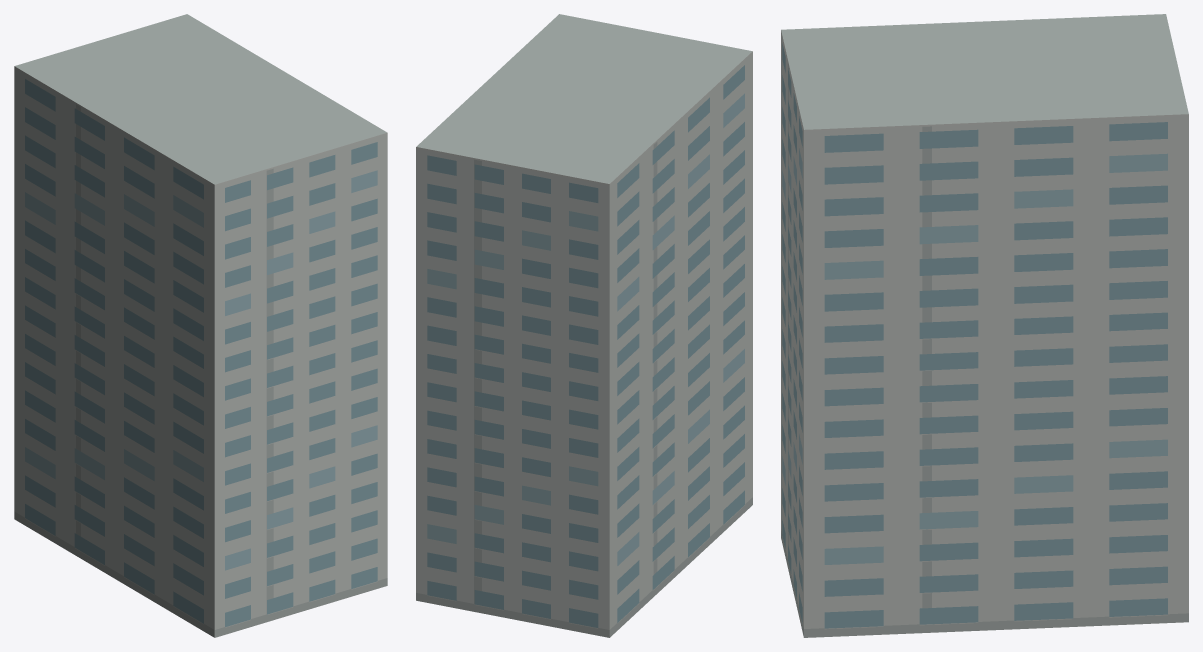
Rendered from residential-ce2b8a57-eed8-4463-aa10-202d6f5c9cc4.glb.
3 views of the same model, side by side, from view 1: azimuth 30°, elevation 25°; view 2: azimuth 150°, elevation 25°; view 3: azimuth 270°, elevation 25° (orthographic). The views are drawn at different scales.
Parts seen in each view (by area): view 1: residential-ce2b8a57-eed8-4463-aa10-202d6f5c9cc4.tmp; view 2: residential-ce2b8a57-eed8-4463-aa10-202d6f5c9cc4.tmp; view 3: residential-ce2b8a57-eed8-4463-aa10-202d6f5c9cc4.tmp.
Boxes of the visible parts, x1,y1,x2,y2 form: residential-ce2b8a57-eed8-4463-aa10-202d6f5c9cc4.tmp: (14,14,387,637); residential-ce2b8a57-eed8-4463-aa10-202d6f5c9cc4.tmp: (416,14,752,637); residential-ce2b8a57-eed8-4463-aa10-202d6f5c9cc4.tmp: (781,14,1188,637).
Size of the model in its own units: 34.24 by 70 by 50.94.
